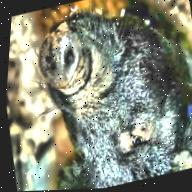boar: (13, 0, 192, 192)
